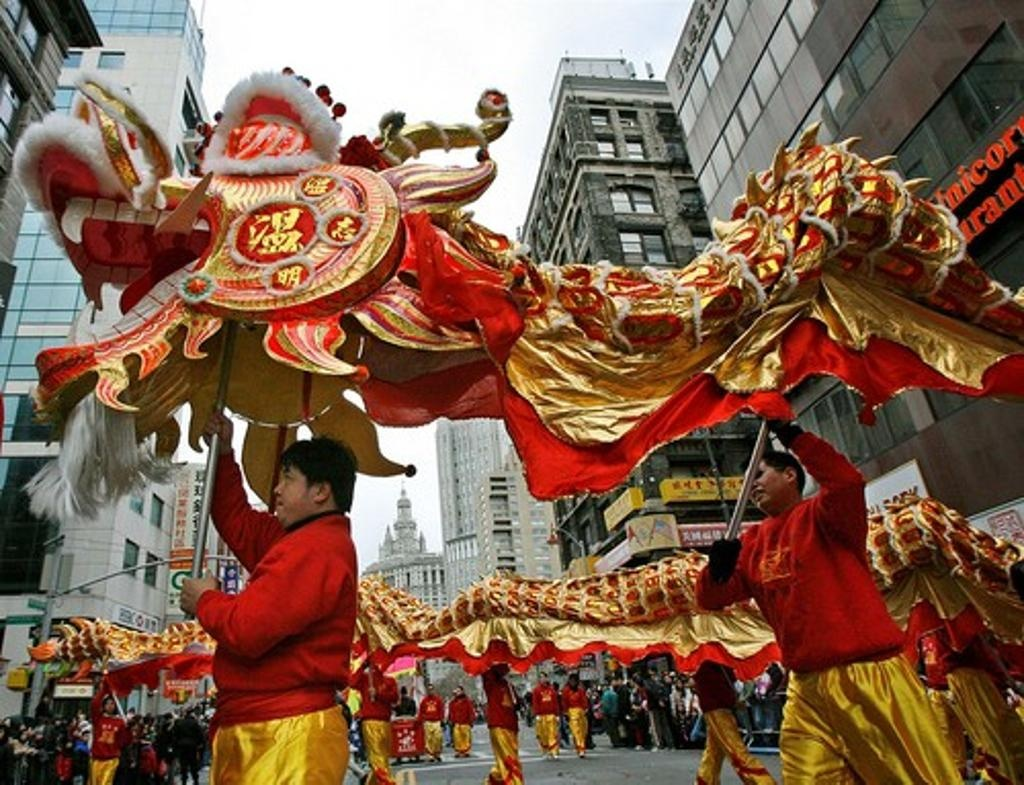human_face: (272, 464, 316, 522), (747, 463, 785, 507), (104, 698, 114, 712), (610, 677, 620, 685), (426, 685, 432, 693), (570, 677, 576, 685), (540, 674, 544, 682), (456, 688, 460, 694)
